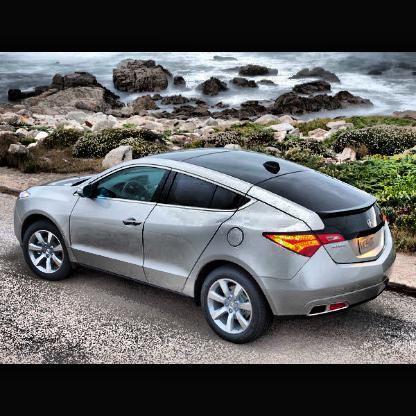Acura ZDX Hatchback 2012: (14, 148, 396, 346)
